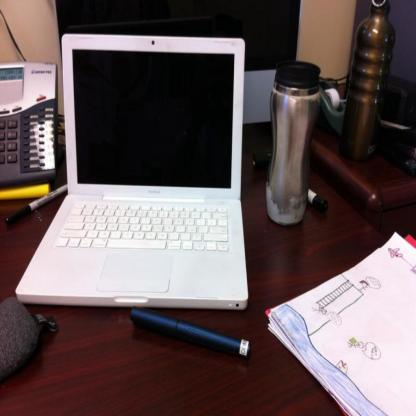board: (14, 32, 257, 312), (267, 59, 321, 224), (342, 0, 393, 165)
